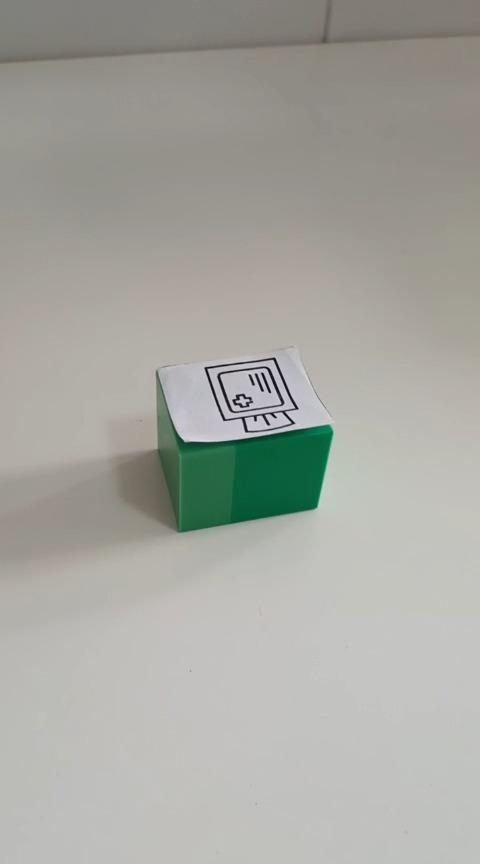Gauze: (153, 343, 335, 532)
